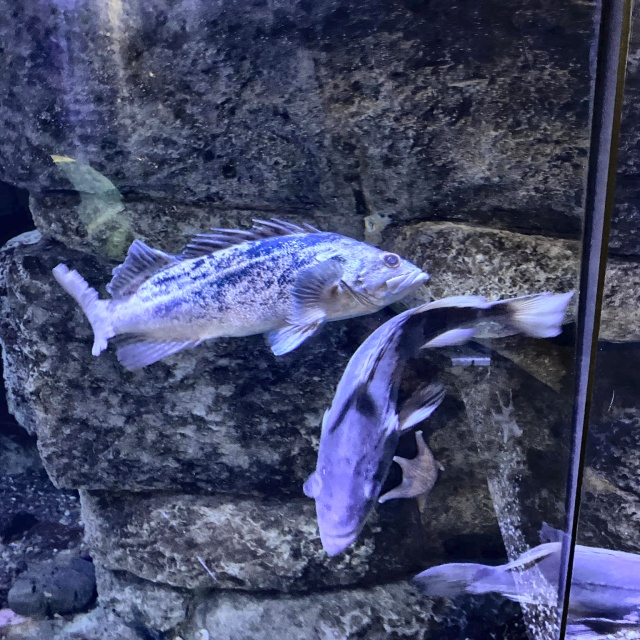fish: (284, 283, 578, 565), (68, 218, 418, 356)
